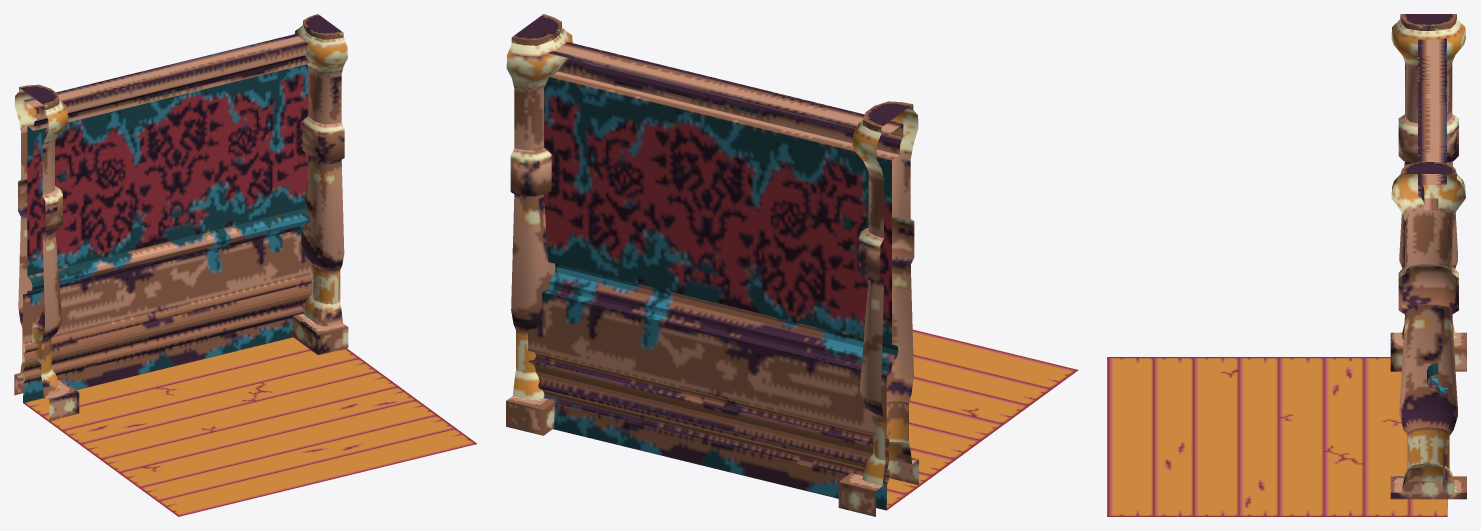
The model's file is tile_wall_v3.fbx.
The picture shows the model from 3 angles, left to right: view 1: azimuth 30°, elevation 25°; view 2: azimuth 150°, elevation 25°; view 3: azimuth 270°, elevation 25°; orthographic projection. The views are drawn at different scales.
Visible parts, largest first — view 1: tile_wall_v3; view 2: tile_wall_v3; view 3: tile_wall_v3.
Boxes of the visible parts, x1=… form: tile_wall_v3: x1=14, y1=14, x2=476, y2=516; tile_wall_v3: x1=506, y1=14, x2=1078, y2=516; tile_wall_v3: x1=1107, y1=14, x2=1466, y2=516.
Size of the model in its own units: 200 by 200 by 190.
